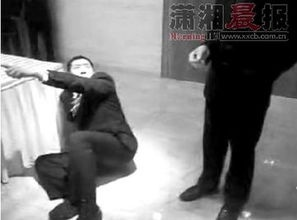falling: (3, 46, 144, 216)
